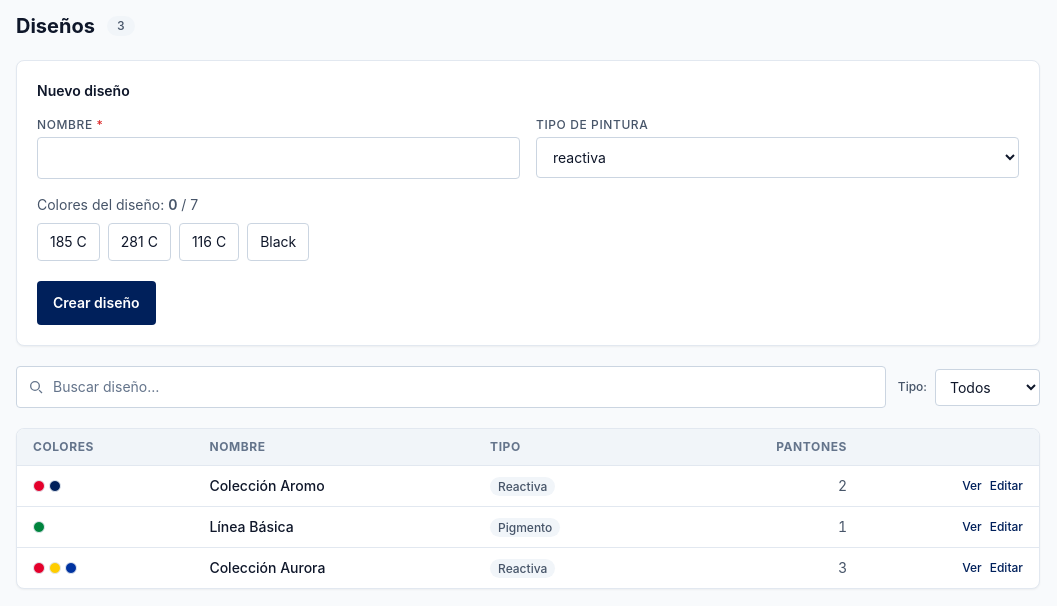
Test case: DesignsPage › filters designs by paint type
Step 1. Select "Pigmento" in the dropdown labelled "Tipo:" → [988, 387], box [935,368,1040,406]
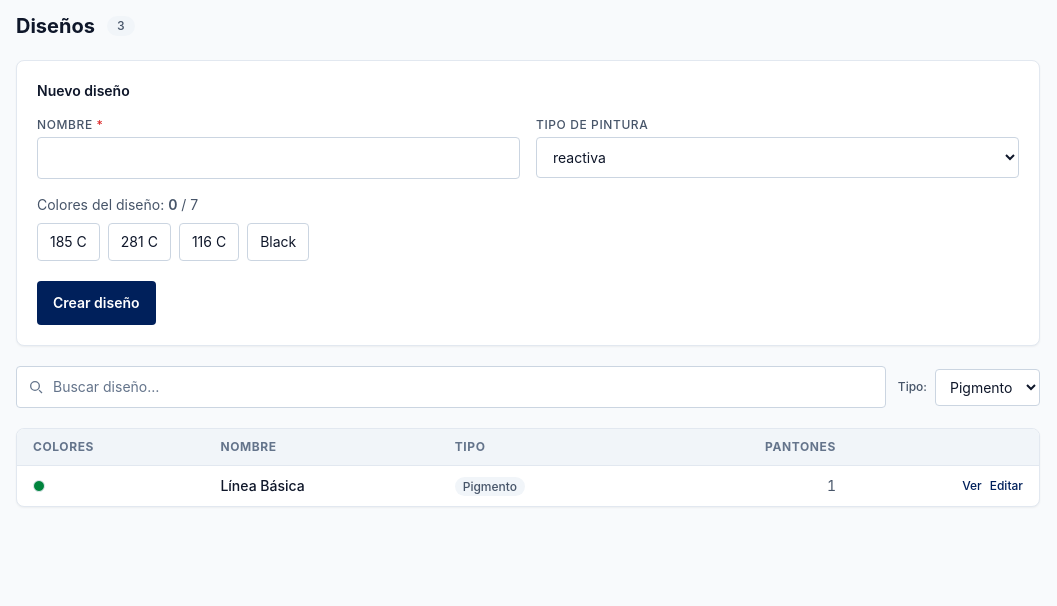
Expected: the text "Colección Aromo" is gone
Expected: the text "Colección Aurora" is gone
